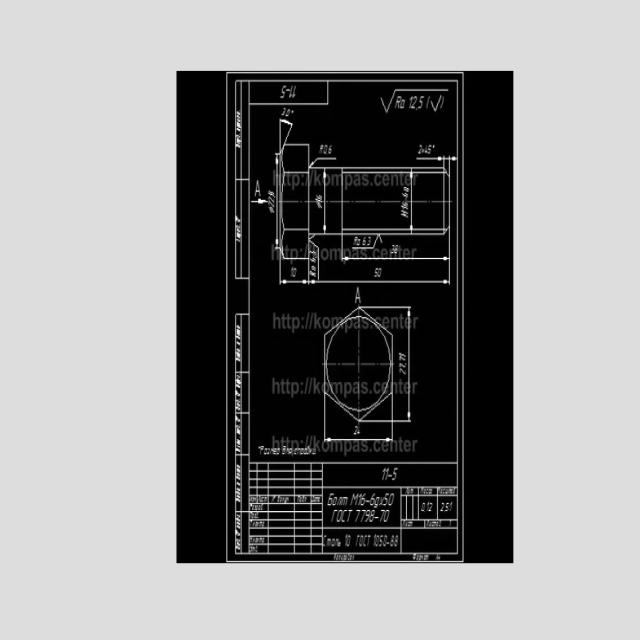marking_line: (310, 278, 448, 286), (343, 254, 449, 262), (406, 309, 413, 419), (276, 118, 293, 154), (275, 155, 280, 249), (325, 436, 391, 442), (323, 168, 327, 235), (410, 170, 414, 233), (282, 278, 307, 285)
numeric: (395, 95, 424, 112), (395, 348, 406, 379), (400, 184, 409, 220), (381, 468, 401, 482), (415, 143, 436, 156), (353, 236, 372, 249), (310, 249, 318, 278), (319, 143, 335, 155), (421, 501, 434, 514), (441, 501, 454, 514), (281, 106, 294, 117), (373, 268, 384, 278), (289, 267, 298, 278)
special_symbol: (376, 88, 396, 117), (428, 94, 447, 114), (310, 155, 339, 168), (268, 204, 275, 216)
